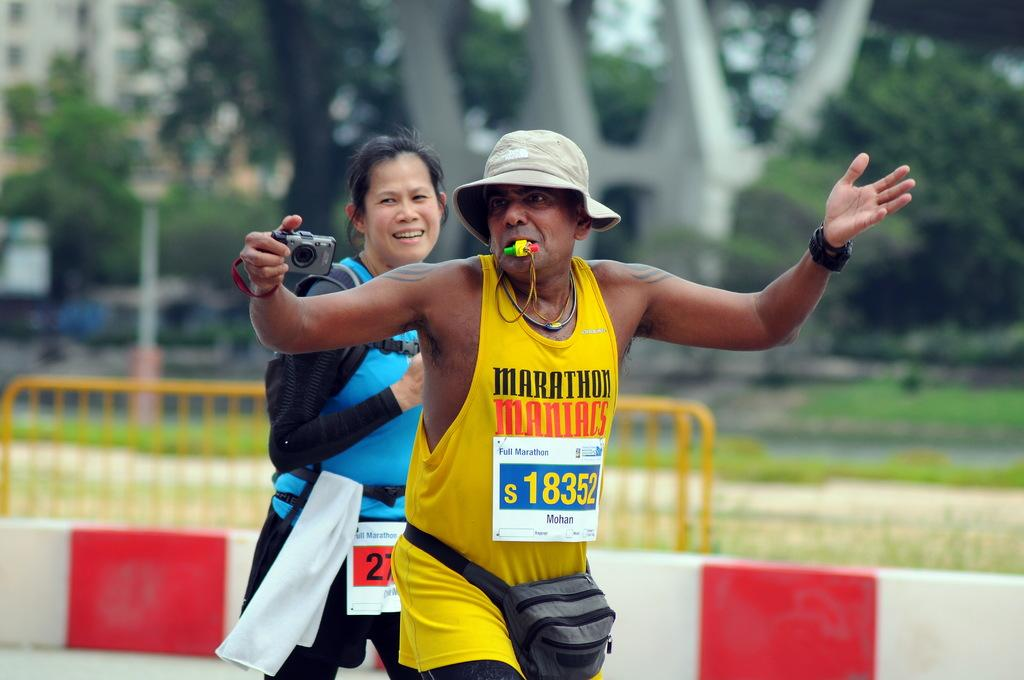Hat: (450, 129, 622, 245)
